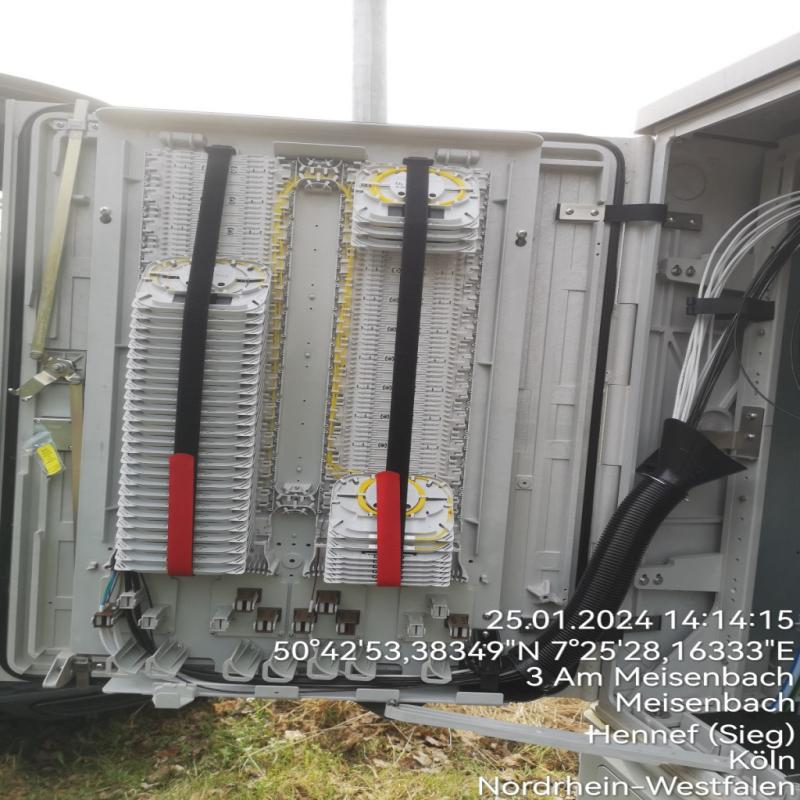Spleiskassetten: (14, 38, 795, 738), (302, 152, 506, 599), (99, 132, 292, 597)
